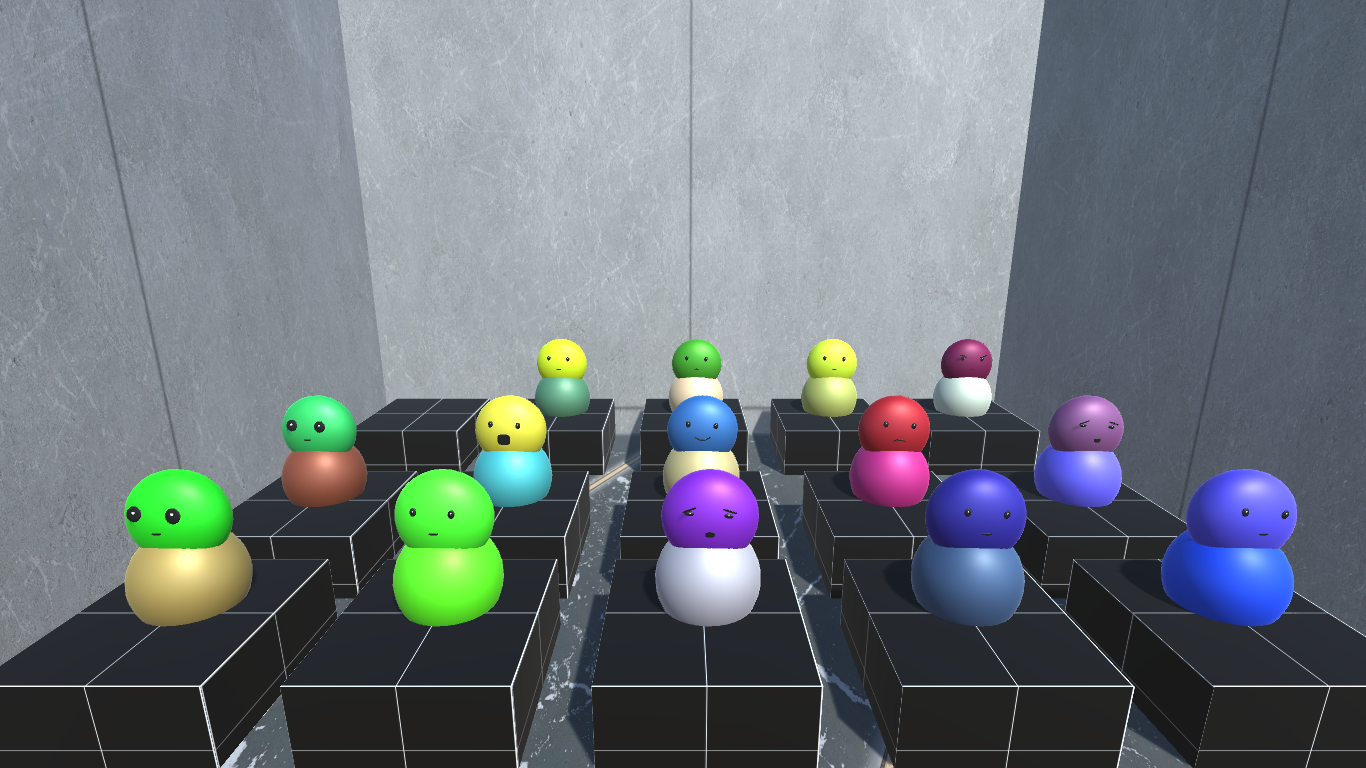blob_atento: (125, 469, 254, 626), (279, 392, 373, 516)
blob_entediado: (649, 470, 765, 629), (1038, 398, 1128, 510)
blob_feliz: (659, 398, 750, 499)
blob_normal: (908, 467, 1040, 632), (1164, 467, 1293, 628), (396, 467, 514, 627), (668, 340, 728, 417), (801, 336, 855, 417), (538, 335, 588, 414)
blob_raiva: (929, 340, 999, 427)
blob_surpreso: (469, 397, 553, 508)
blob_triste: (854, 399, 934, 511)
